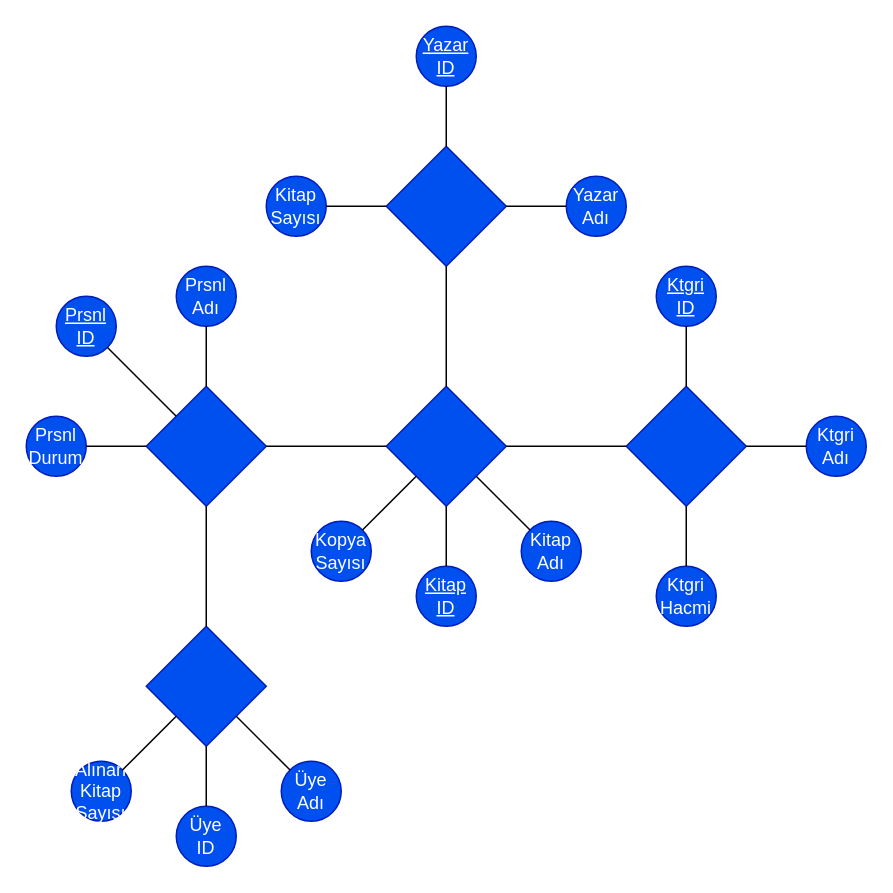
Some shapes in this 893 by 893 pixel diagram are drawn without their labels. The box of each missing label's shape, as (x1, y1, x2, y2) in pixels:
Kategori: (625, 385, 746, 506)
Kitap: (385, 385, 506, 506)
Personel: (145, 385, 266, 506)
Yazar: (385, 145, 506, 266)
Üye: (145, 625, 266, 746)
